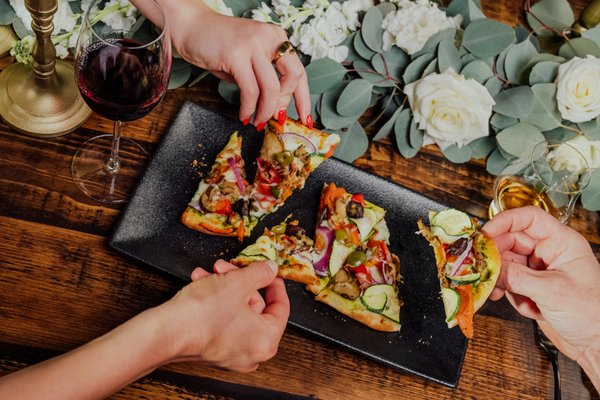curry: (1, 3, 580, 392)
sandwich: (236, 181, 403, 332), (69, 0, 172, 204), (180, 111, 342, 239), (0, 0, 91, 135), (416, 207, 502, 340)
